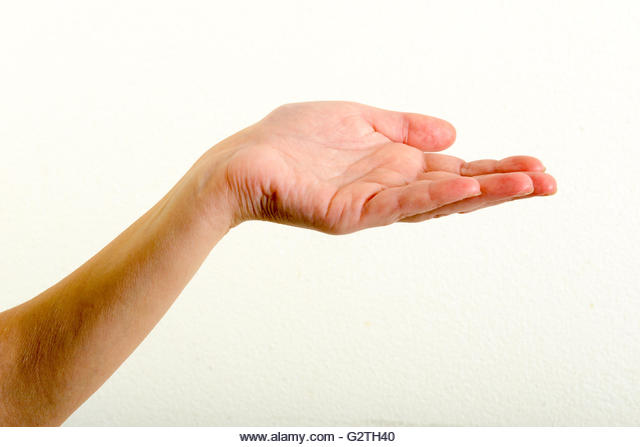hand: (179, 76, 591, 264)
